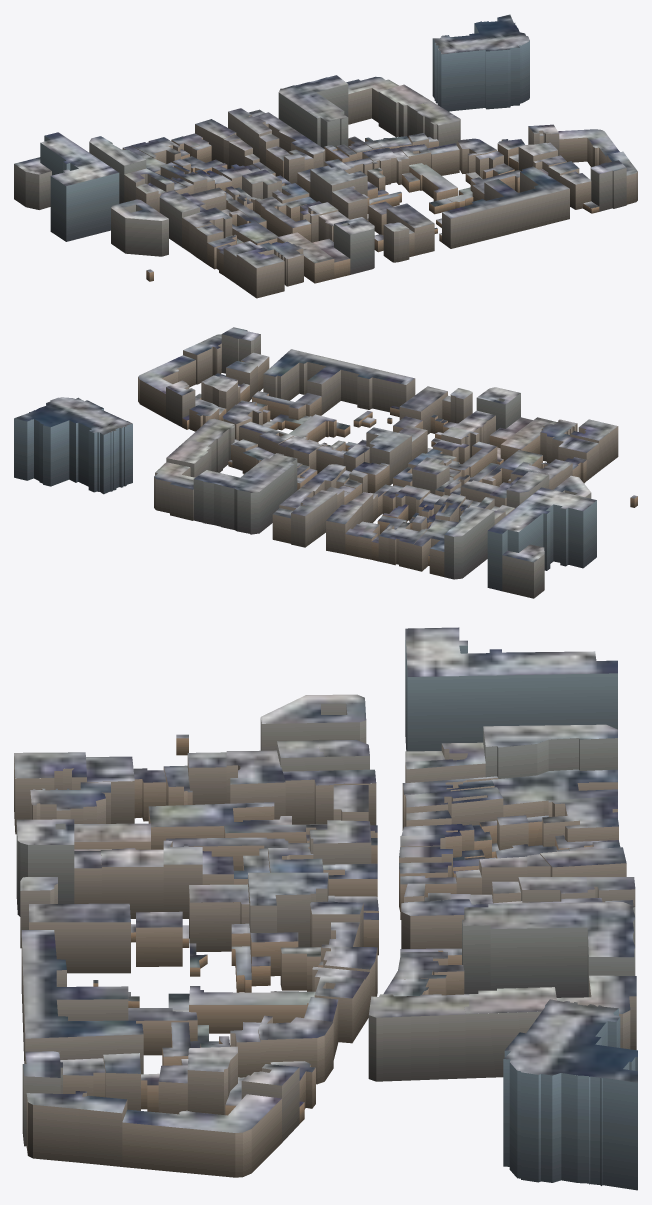
The picture shows the model from 3 angles, top to bottom: view 1: azimuth 30°, elevation 25°; view 2: azimuth 150°, elevation 25°; view 3: azimuth 270°, elevation 25°; orthographic projection. The views are drawn at different scales.
Size of the model in its own units: 344 by 37.57 by 198.
2 materials, 2 textured.
